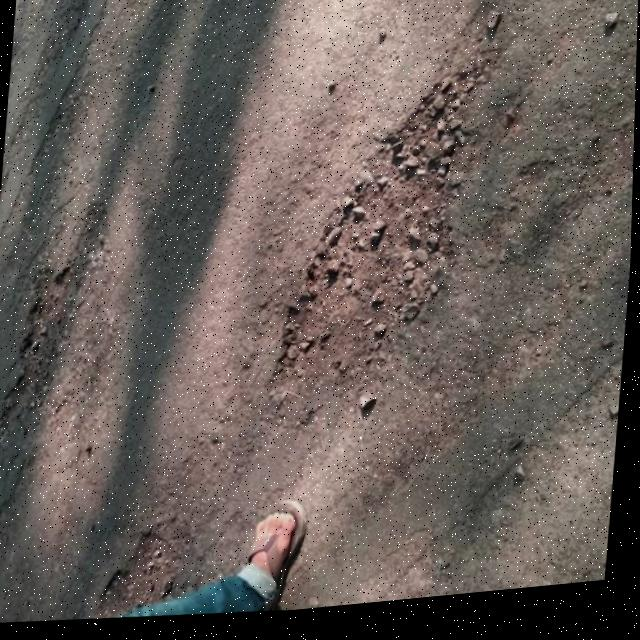Pothole: (262, 57, 496, 424), (0, 257, 84, 438), (95, 524, 188, 624)
